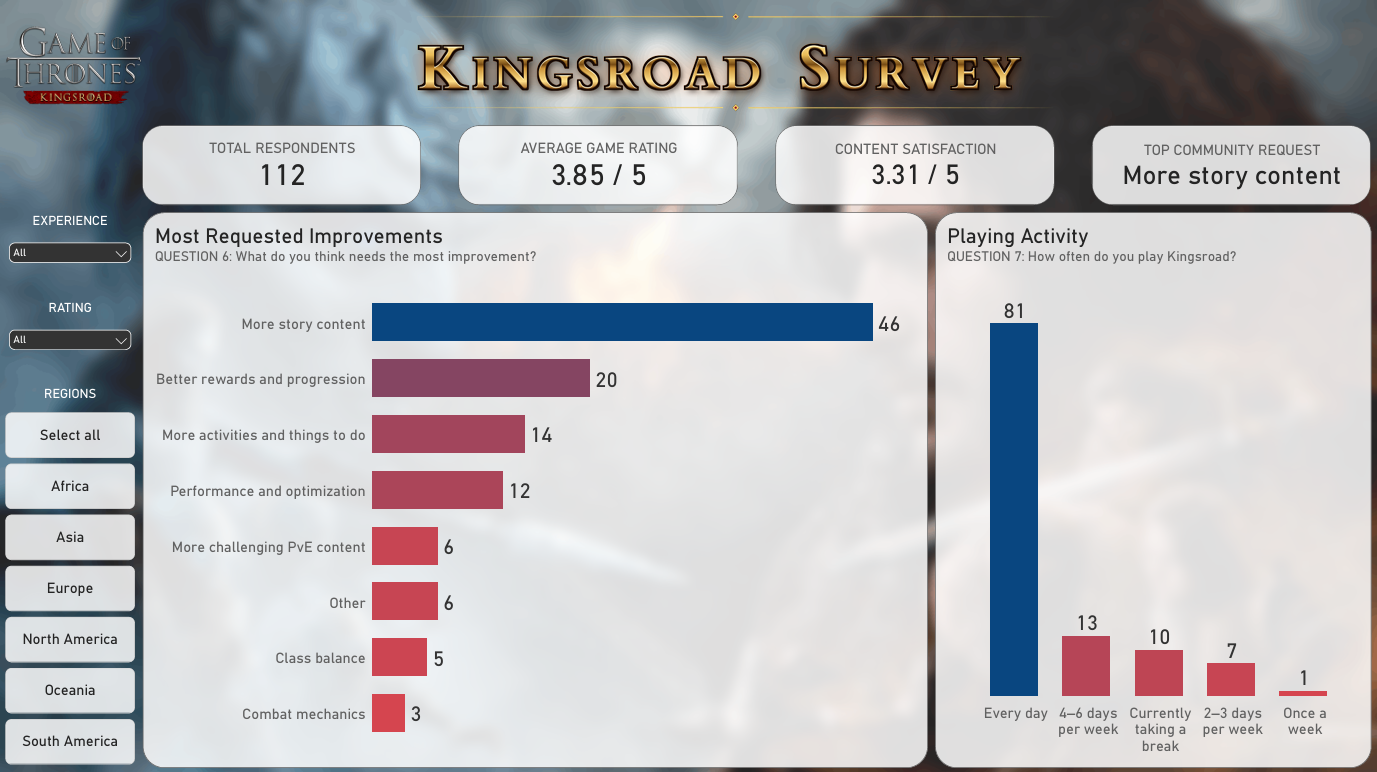

This screenshot's page, from the dashboard's own definition file:
{"tool":"powerbi","page":{"name":"Questions 6-7","canvas":[1920,1080],"ordinal":3},"visuals":[{"type":"image","box":[10.2,10.2,189.7,164.9],"z":0},{"type":"image","box":[551.5,0,930,175],"z":1000},{"type":"columnChart","title":"Playing Activity","fields":{"Category":["Questions.How often do you play Kingsroad?"],"Y":["Formulas.Players_Count"]},"box":[1302.7,295.9,607.1,772.1],"z":2000},{"type":"clusteredBarChart","title":"Most Requested Improvements","fields":{"Category":["Questions.What do you think needs the most improvement?"],"Y":["Formulas.Players_Count"]},"box":[200.7,295.9,1092,772.1],"z":3000},{"type":"cardVisual","fields":{"Data":["Formulas.Players_Count"]},"box":[200,175,388.3,111],"z":4000},{"type":"cardVisual","fields":{"Data":["Formulas.Avg_Game_Rating_Card"]},"box":[640.3,175,388.3,111],"z":5000},{"type":"cardVisual","fields":{"Data":["Formulas.Top_Improvement"]},"box":[1521,175.1,388.3,111],"z":6000},{"type":"cardVisual","fields":{"Data":["Formulas.Avg_Content_Rating_Card"]},"box":[1080.7,175,388.3,111],"z":7000},{"type":"advancedSlicerVisual","title":"REGIONS","fields":{"Values":["Questions.Where are you playing from?"]},"box":[10.2,537.4,180,530],"z":8000},{"type":"slicer","title":"RATING","fields":{"Values":["Questions.Overall, how would you rate Game of Thrones: Kingsroad?"]},"box":[10,416.5,180.3,85],"z":9000},{"type":"slicer","title":"EXPERIENCE","fields":{"Values":["Questions.How long have you been playing Game of Thrones: Kingsroad?"]},"box":[10,295.7,180.3,85],"z":10000}]}

Visuals, with their boxes in screenshot pixels (x1, y1, x2, y2), scaled from the page's 1920x1080 canvas onto the 1377x772 screenshot:
image: {"left": 7, "top": 7, "right": 143, "bottom": 125}
image: {"left": 396, "top": 0, "right": 1063, "bottom": 125}
"Playing Activity" columnChart: {"left": 934, "top": 212, "right": 1370, "bottom": 763}
"Most Requested Improvements" clusteredBarChart: {"left": 144, "top": 212, "right": 927, "bottom": 763}
cardVisual - Formulas.Players_Count: {"left": 143, "top": 125, "right": 422, "bottom": 204}
cardVisual - Formulas.Avg_Game_Rating_Card: {"left": 459, "top": 125, "right": 738, "bottom": 204}
cardVisual - Formulas.Top_Improvement: {"left": 1091, "top": 125, "right": 1369, "bottom": 205}
cardVisual - Formulas.Avg_Content_Rating_Card: {"left": 775, "top": 125, "right": 1054, "bottom": 204}
"REGIONS" advancedSlicerVisual: {"left": 7, "top": 384, "right": 136, "bottom": 763}
"RATING" slicer: {"left": 7, "top": 298, "right": 136, "bottom": 358}
"EXPERIENCE" slicer: {"left": 7, "top": 211, "right": 136, "bottom": 272}
